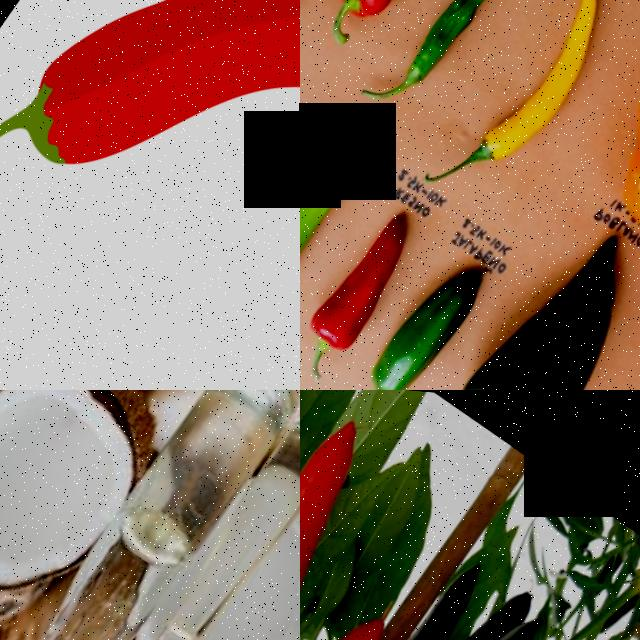bell pepper: (578, 0, 640, 267)
chilli: (0, 0, 300, 390), (465, 0, 640, 185), (300, 188, 444, 372), (300, 390, 407, 636), (362, 235, 507, 390), (300, 128, 383, 349), (389, 0, 534, 112), (300, 585, 402, 640)
coconut: (0, 390, 197, 630), (172, 471, 300, 640)
